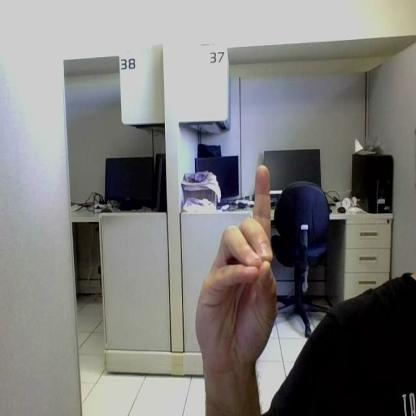D: (196, 165, 277, 351)
